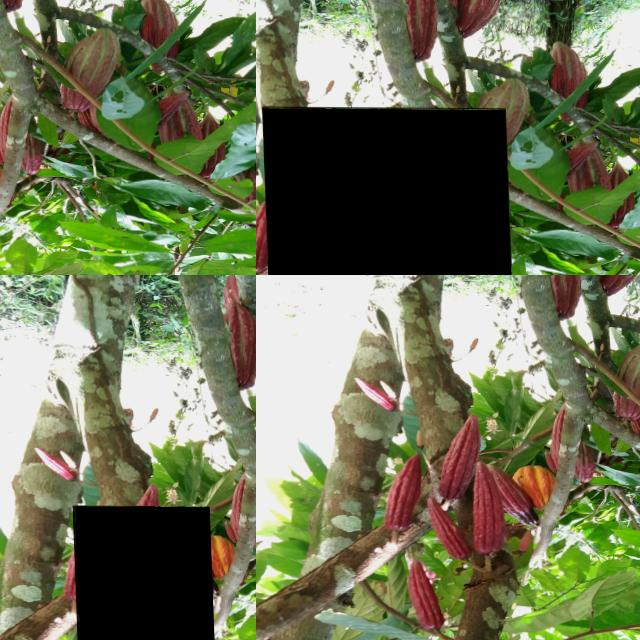Fitoftora: (487, 467, 536, 524)
Monilia: (71, 505, 213, 640)
Sana: (260, 106, 513, 275), (120, 426, 168, 519), (454, 468, 507, 550), (434, 414, 476, 501), (381, 453, 420, 529), (423, 497, 468, 562), (403, 557, 441, 629), (611, 337, 640, 417), (543, 275, 582, 321), (511, 464, 549, 505), (354, 377, 395, 411), (0, 499, 12, 573), (375, 379, 393, 398), (469, 336, 477, 349)
